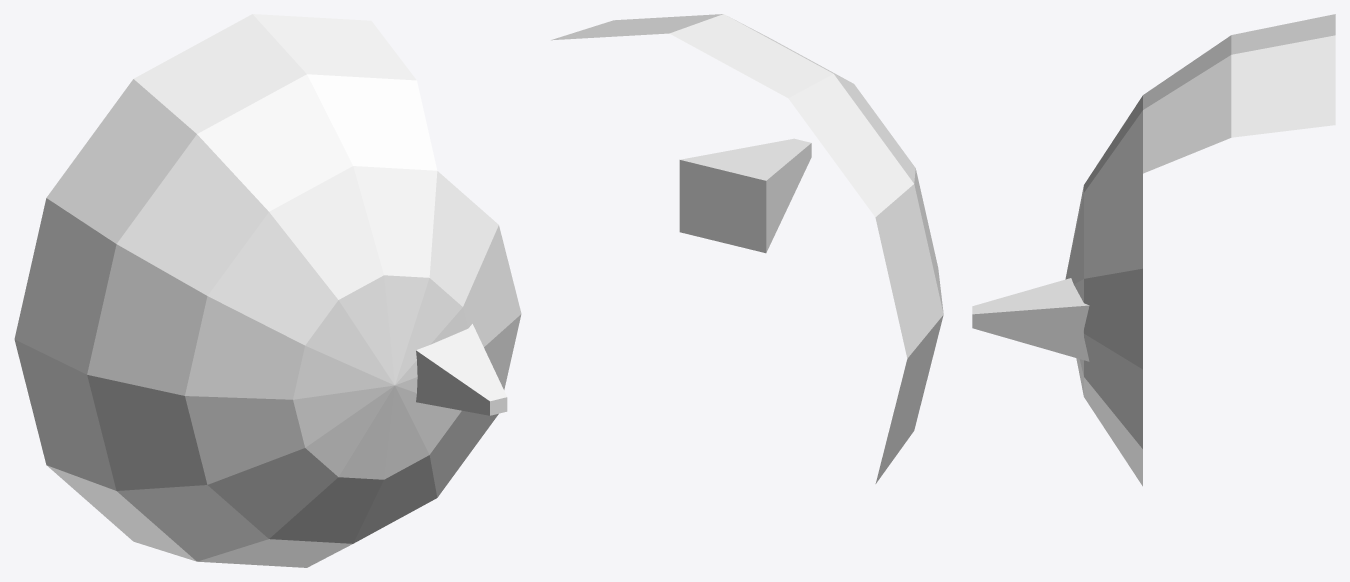
The model's file is hair_tuft.glb.
3 renders of one model, left to right at view 1: azimuth 30°, elevation 25°; view 2: azimuth 150°, elevation 25°; view 3: azimuth 270°, elevation 25°, orthographic. The views are drawn at different scales.
Parts seen in each view (by area): view 1: hair_tuft; view 2: hair_tuft; view 3: hair_tuft.
Part boxes in pixels (<box>): hair_tuft: <box>14,14,521,567</box>; hair_tuft: <box>551,14,943,483</box>; hair_tuft: <box>972,14,1335,486</box>.
Bounding box in the file's own units: 0.4695 × 0.59 × 0.38.
1 material, 1 textured.
